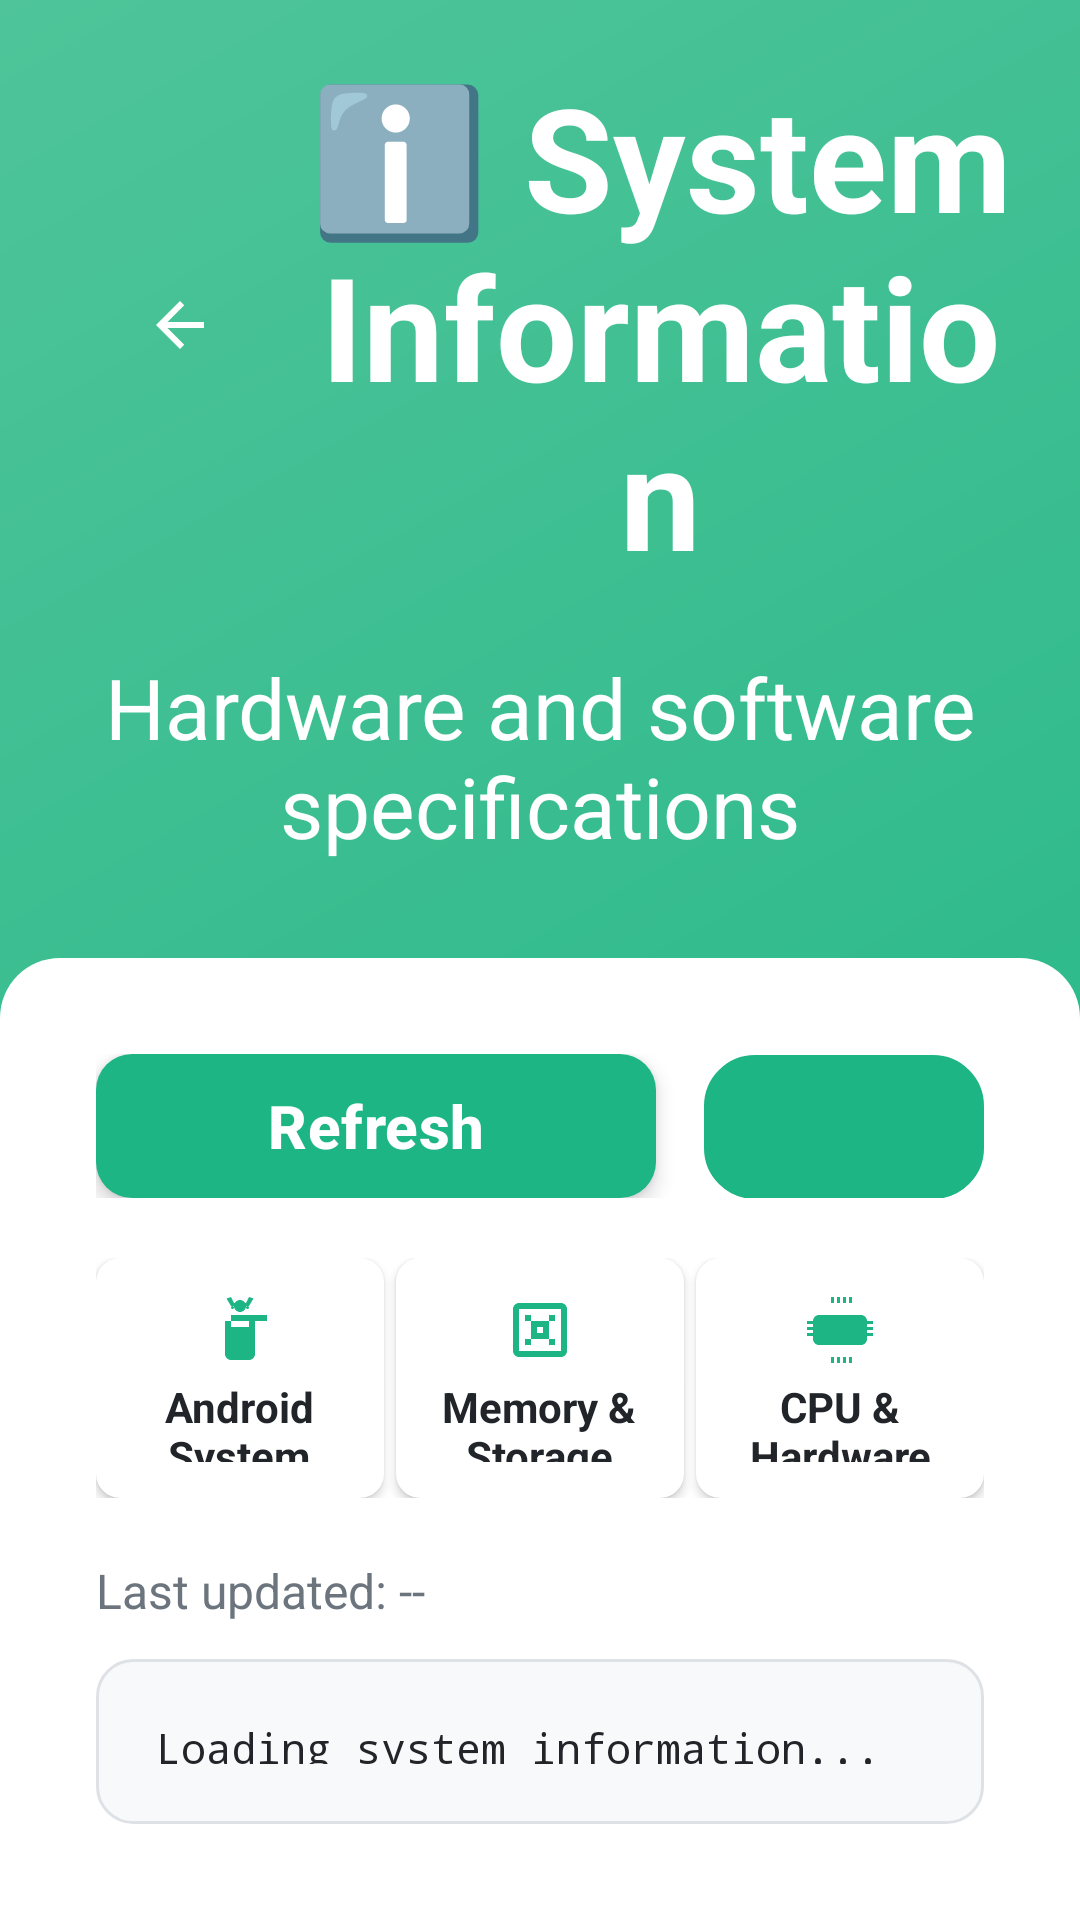

Locate icon controls on the screen. Image size 1080×1920, boxes as (x1, y1, x2, y2).
Back: (156, 301, 204, 349)
